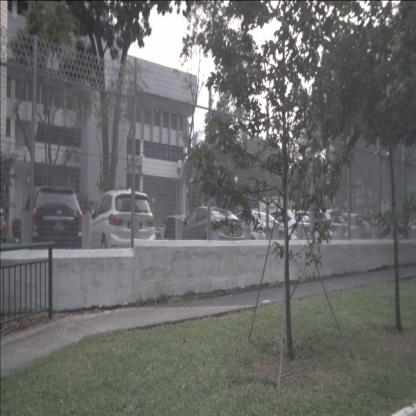vehicle-car: (19, 186, 83, 260), (84, 190, 155, 255), (179, 206, 245, 249), (223, 211, 285, 251), (291, 209, 349, 250), (262, 209, 317, 250), (323, 212, 372, 253), (157, 215, 191, 242), (1, 204, 7, 243)
